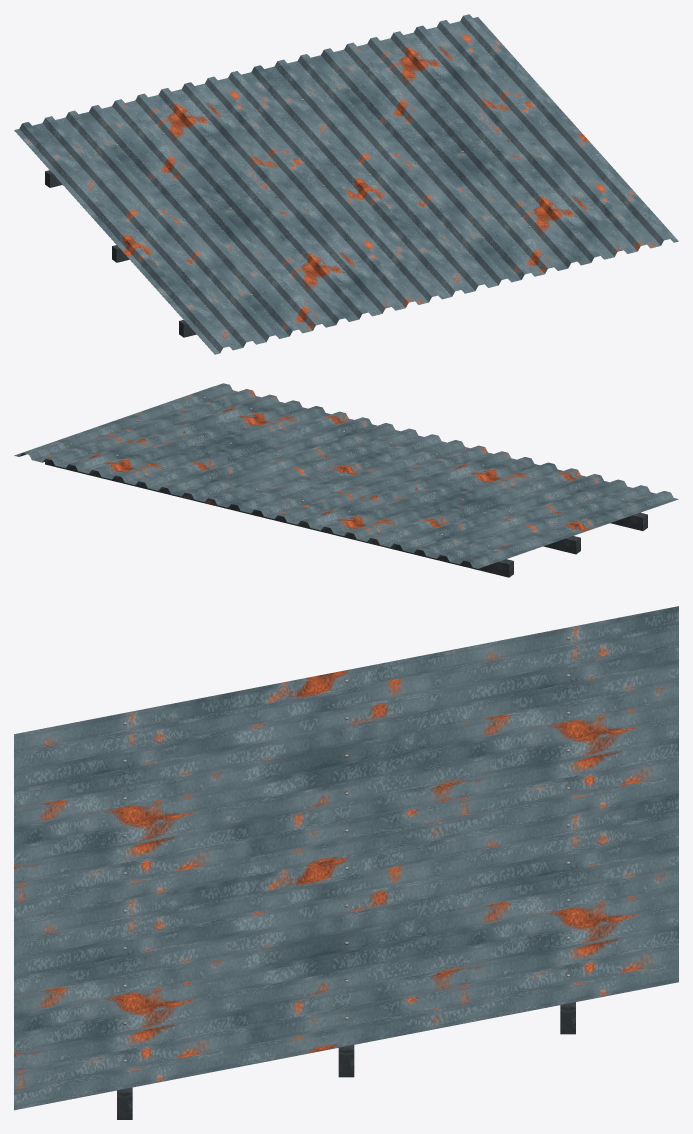
File: ROOF_SHEET_4000x3000_INTACT.glb
3 renders of one model, top to bottom at view 1: azimuth 30°, elevation 25°; view 2: azimuth 150°, elevation 25°; view 3: azimuth 270°, elevation 25°, orthographic. The views are drawn at different scales.
Parts seen in each view (by area): view 1: ROOF_SHEET_4000x3000_INTACT__Roof_Cladding_Corrugated, ROOF_SHEET_4000x3000_INTACT__Roof_Purlins_3; view 2: ROOF_SHEET_4000x3000_INTACT__Roof_Cladding_Corrugated, ROOF_SHEET_4000x3000_INTACT__Roof_Purlins_3; view 3: ROOF_SHEET_4000x3000_INTACT__Roof_Cladding_Corrugated, ROOF_SHEET_4000x3000_INTACT__Roof_Purlins_3.
Part boxes in pixels (box(x1,y1,x2,y2)): ROOF_SHEET_4000x3000_INTACT__Roof_Cladding_Corrugated: box(14, 14, 678, 354); ROOF_SHEET_4000x3000_INTACT__Roof_Purlins_3: box(45, 170, 196, 337); ROOF_SHEET_4000x3000_INTACT__Roof_Cladding_Corrugated: box(14, 383, 678, 568); ROOF_SHEET_4000x3000_INTACT__Roof_Purlins_3: box(45, 460, 647, 577); ROOF_SHEET_4000x3000_INTACT__Roof_Cladding_Corrugated: box(14, 606, 678, 1110); ROOF_SHEET_4000x3000_INTACT__Roof_Purlins_3: box(117, 1002, 575, 1119).
Size of the model in its own units: 4 by 0.7254 by 3.
3 materials, 3 textured.
